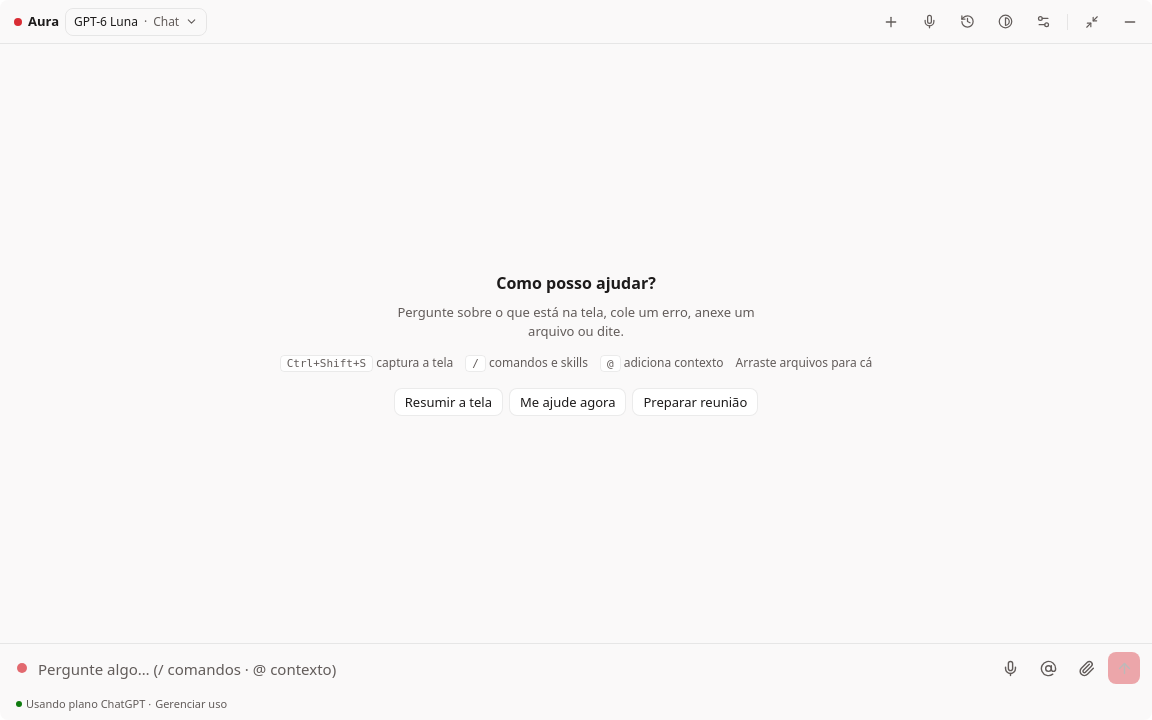
Test: empty Overlay suggestions › shows suggestions and 'Preparar reunião' opens the Meeting panel
Click the button "Preparar reunião": x=695, y=402 left=632, top=388, right=758, bottom=416
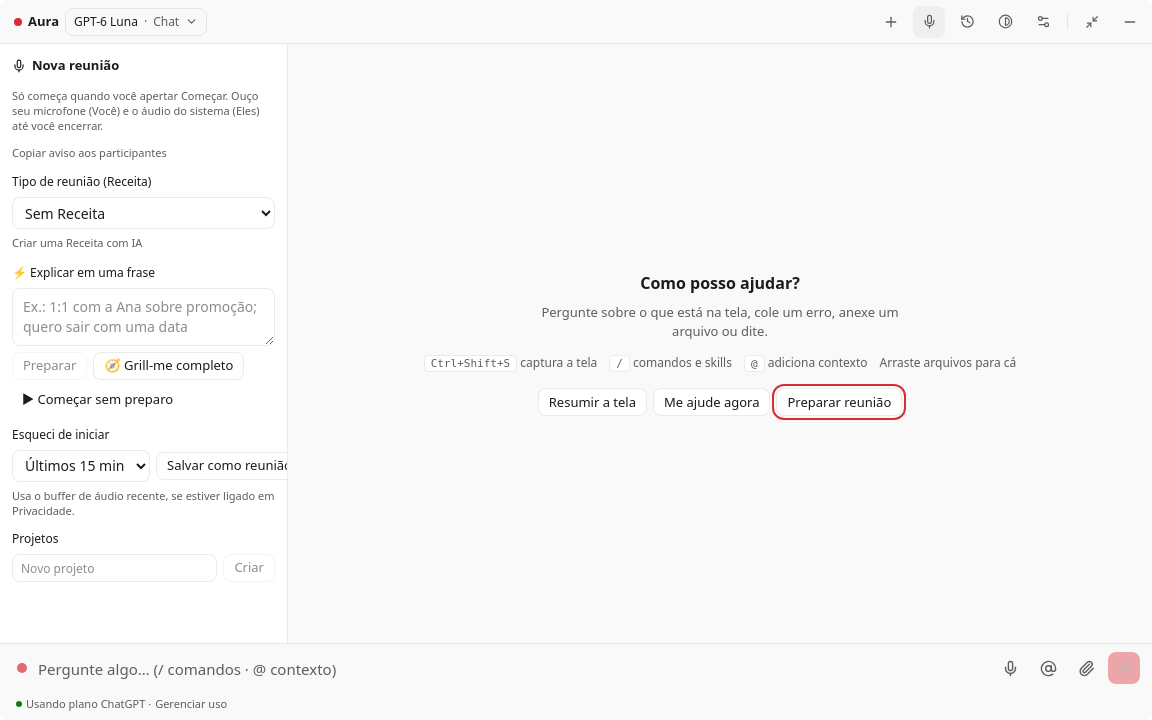
Result: the heading "Nova reunião" is shown at left=12, top=56, right=119, bottom=74
